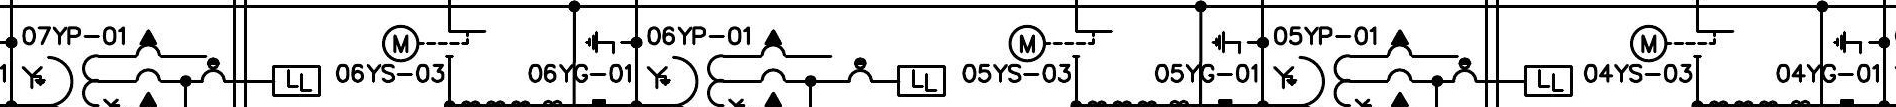115_1way_ds_w_motor: (1006, 24, 1114, 64), (1628, 24, 1735, 64), (381, 24, 487, 64)
115_gs: (1210, 29, 1252, 56), (1832, 29, 1872, 56), (584, 29, 625, 55)
LL: (271, 64, 322, 97), (896, 64, 947, 97), (1522, 64, 1573, 97)
